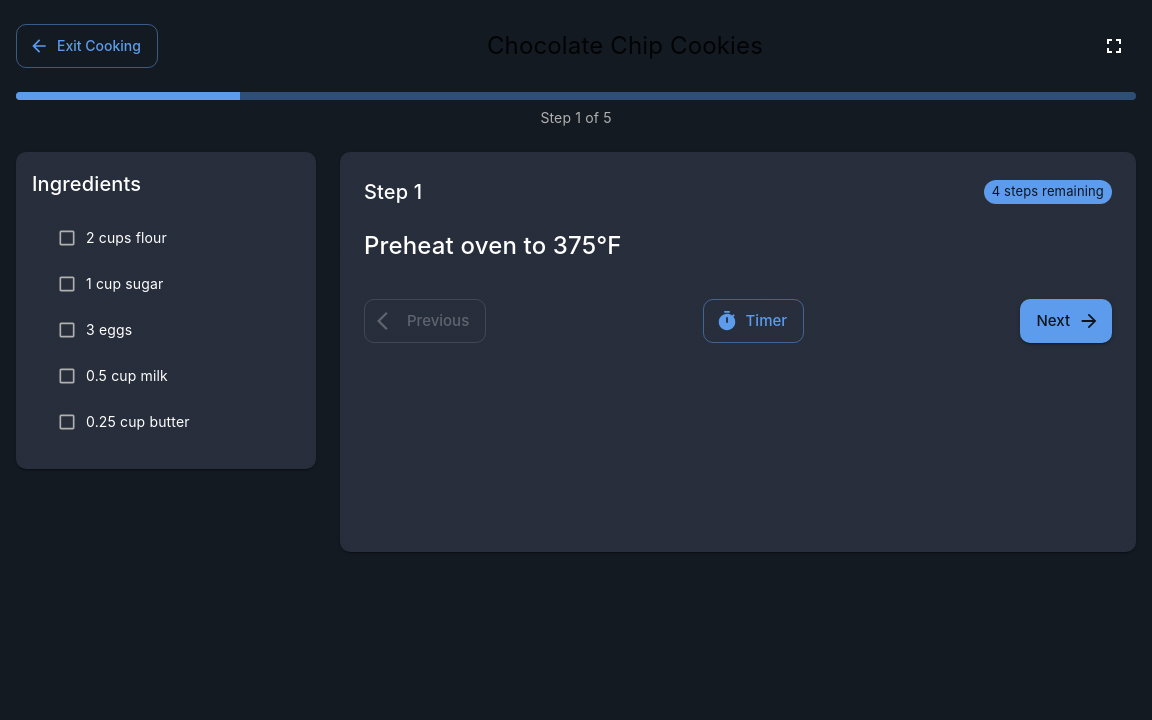
Test case: CookingMode Component › Step Navigation › should navigate to previous step
Expected: the heading "Step 1" is shown, [364,176,422,208]
# Go to step 2 first
Click the button "Next".
click(1066, 321)  # box [1020,299,1112,343]
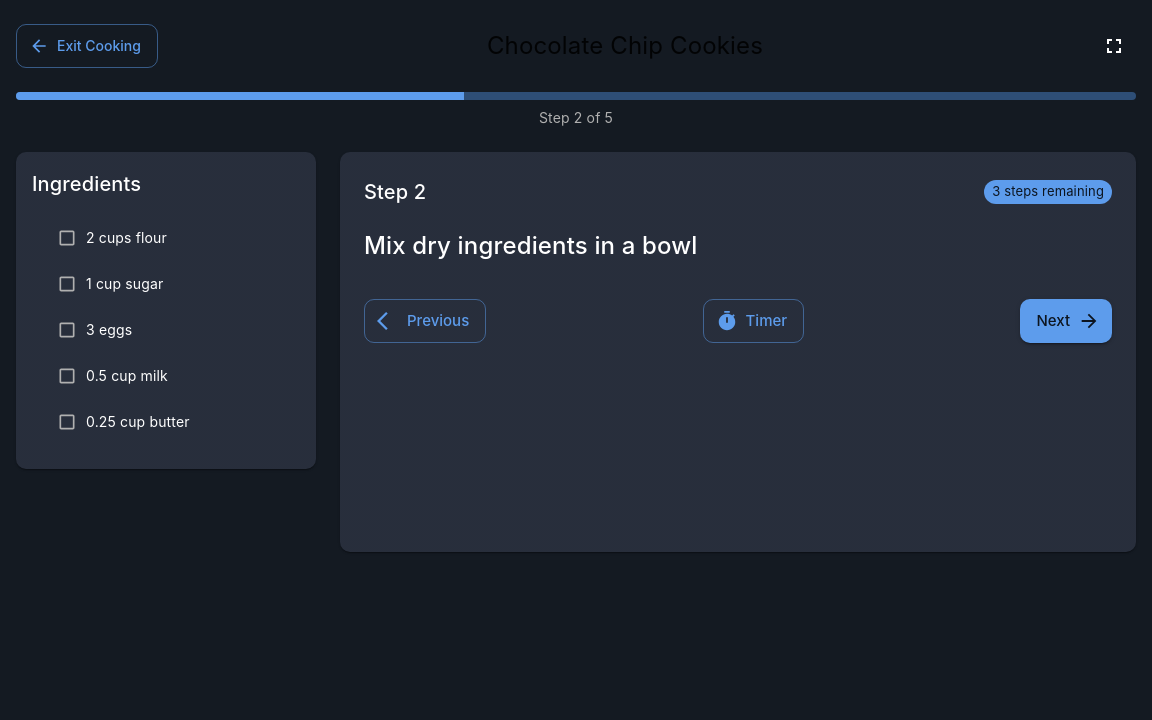
Expected: the heading "Step 2" is shown, [364,176,426,208]
# Go back to step 1
Click the button "Previous".
click(425, 321)  # box [364,299,486,344]
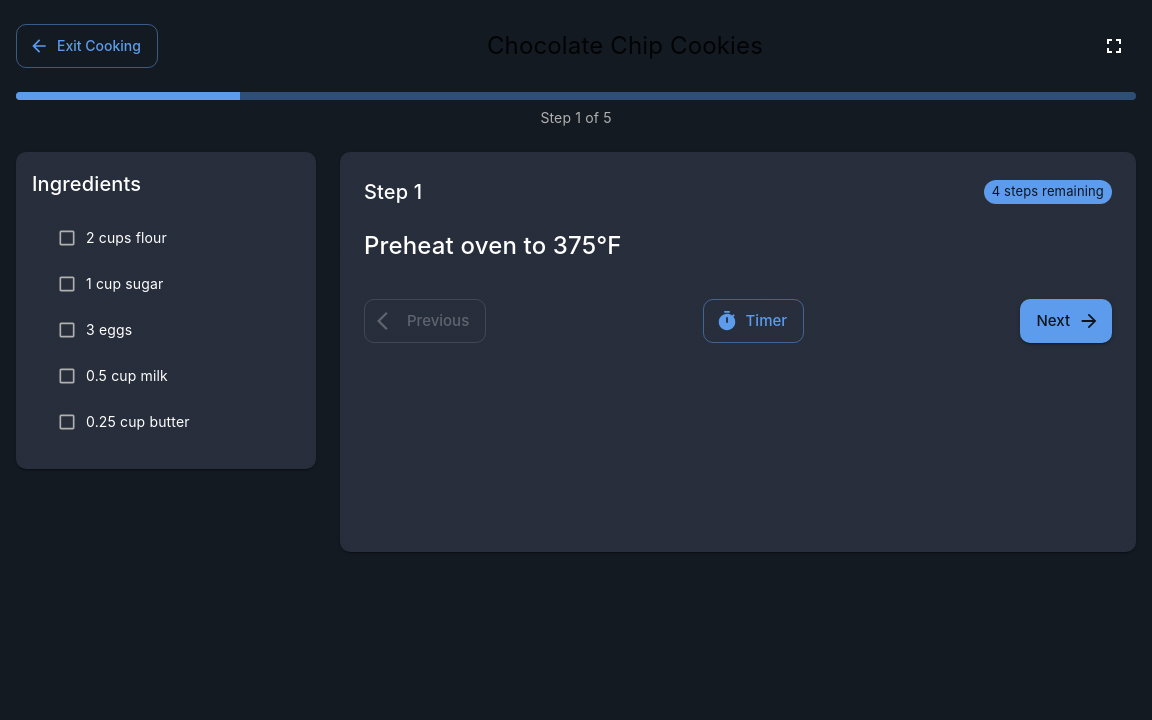
Expected: the heading "Step 1" is shown, [364,176,422,208]
